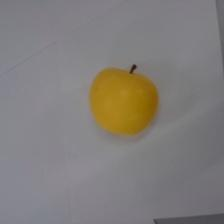yellow: (89, 63, 159, 135)
